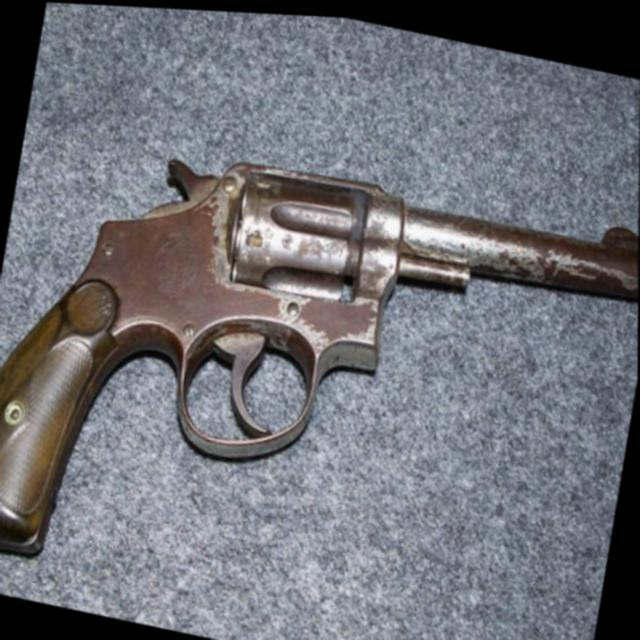weapon: (0, 98, 639, 640)
